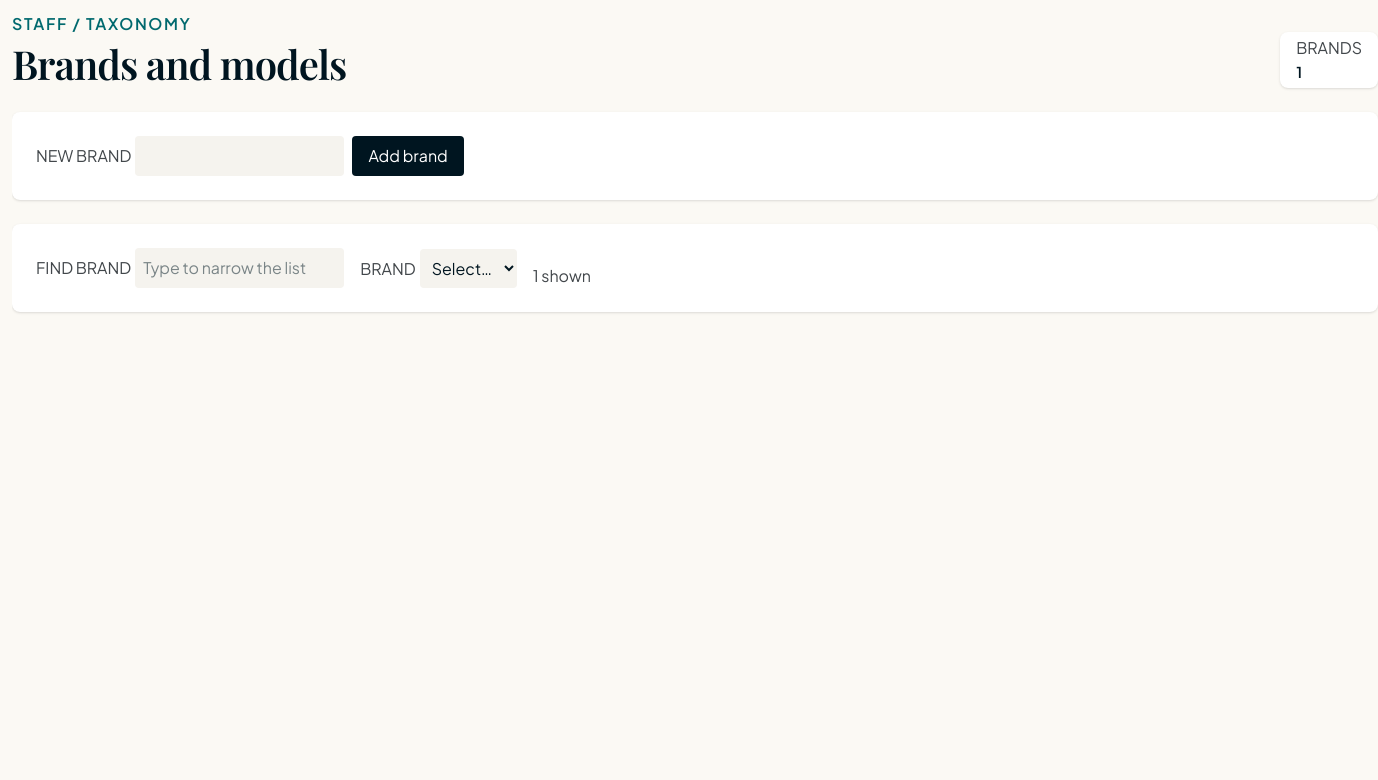
Scenario: TaxonomyAdmin › never offers the Other placeholder for editing
The image size is (1378, 780).
Select "Bavaria" in the dropdown labelled "Brand" at point(468, 268), box [420,249,517,288]
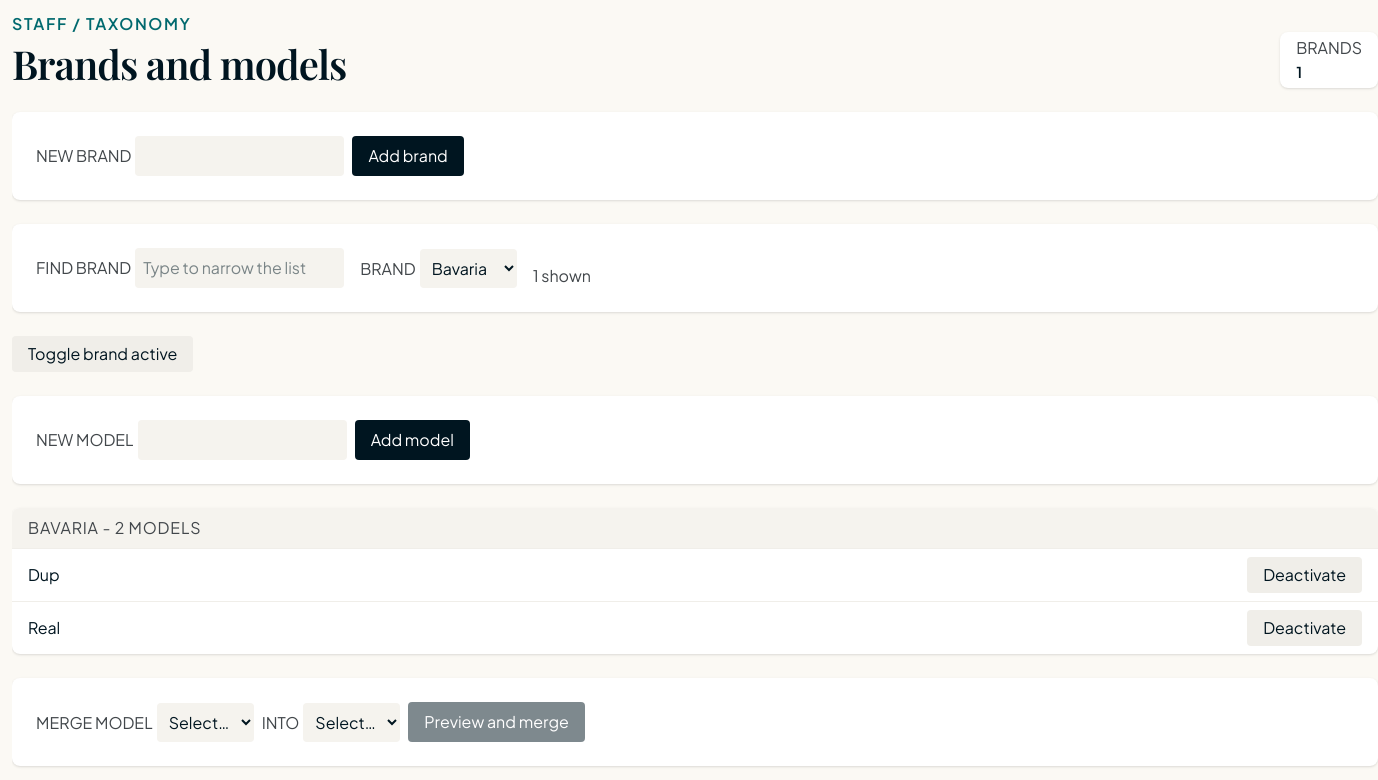
Expected: the button "Add model" is shown, [355,420,470,460]
Expected: the text "Real" is shown, [28,616,60,640]
